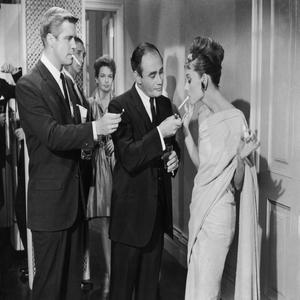cigarette: (71, 53, 84, 70), (176, 96, 189, 112)
